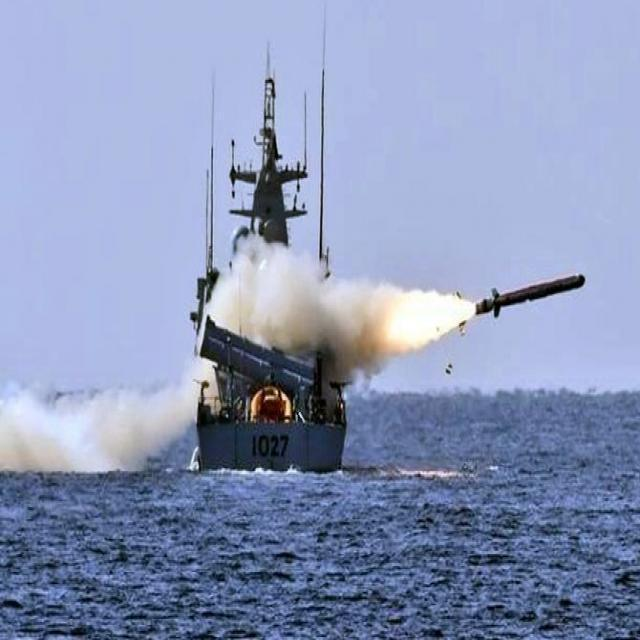missile: (468, 262, 590, 325)
